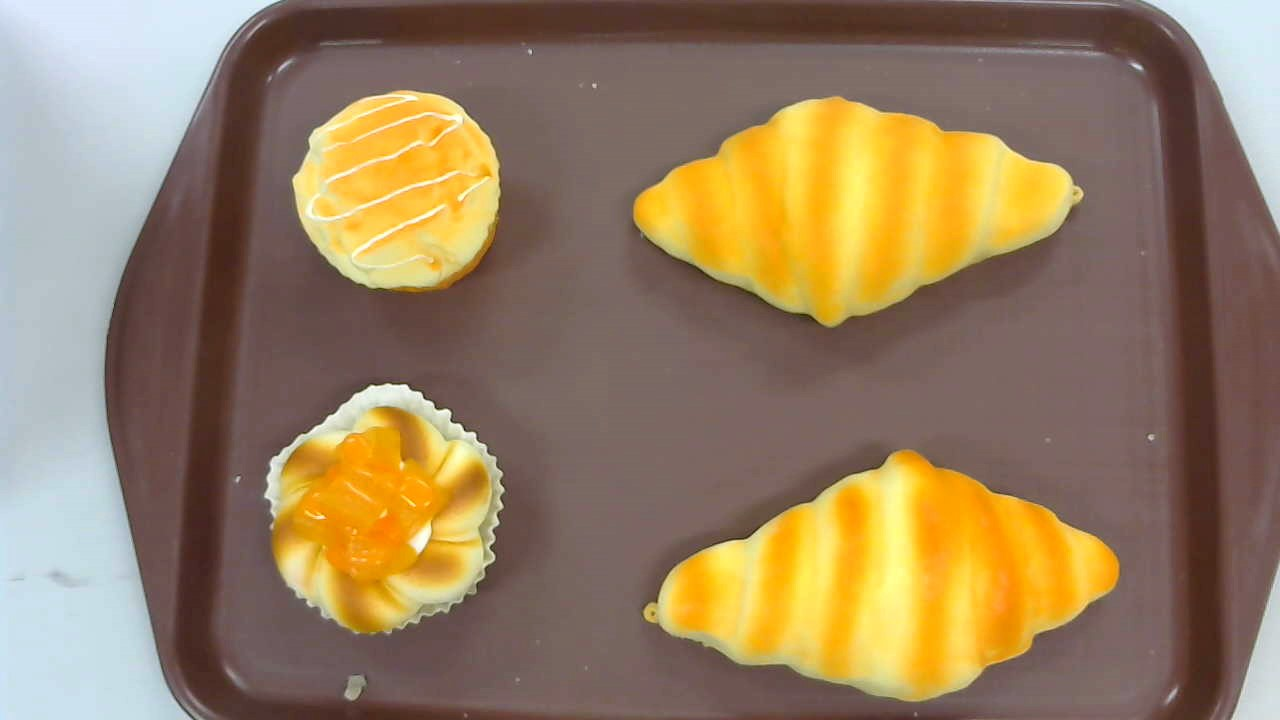croissant: (642, 447, 1121, 702), (631, 94, 1083, 329)
cupcake: (291, 89, 499, 293)
mango tart: (264, 381, 506, 637)
